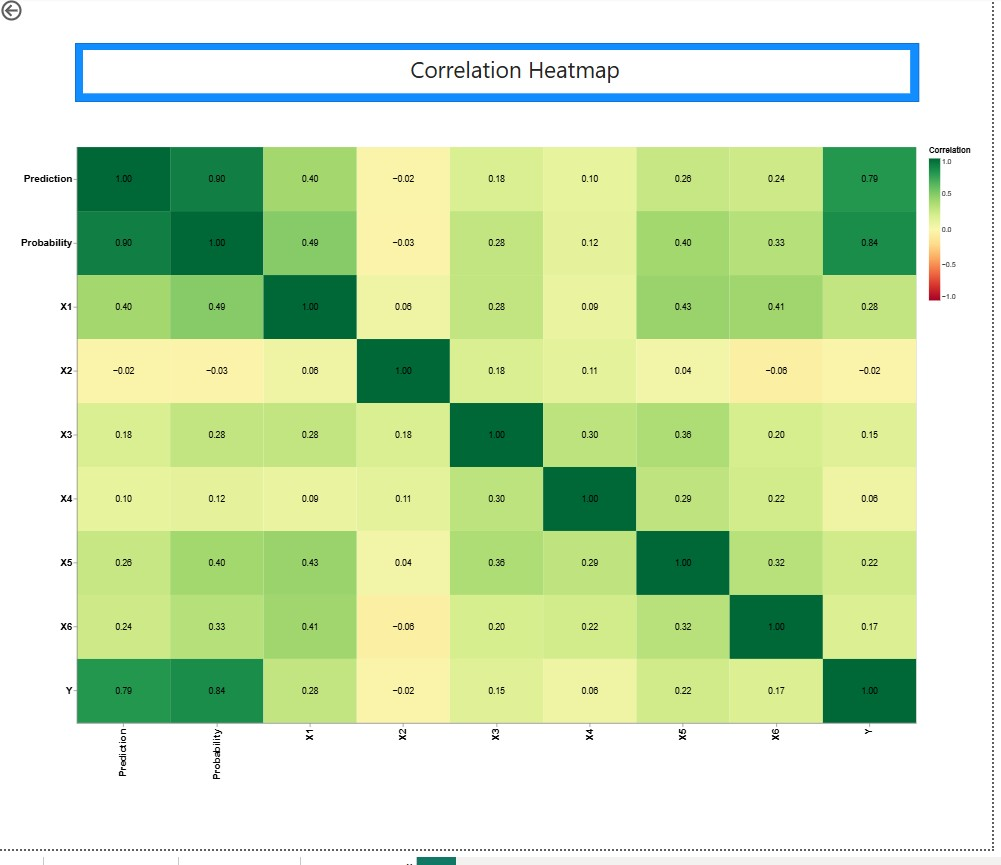

Layout of this report page (visuals, bound fields, positions):
{"tool":"powerbi","page":{"name":"4.Correlations","canvas":[1400,1200],"ordinal":3},"visuals":[{"type":"shape","box":[108.5,64.8,1188.7,83.1],"z":0,"group":"g1"},{"type":"deneb7E15AEF80B9E4D4F8E12924291ECE89A","fields":{"dataset":["Variables.Variable","VariablesCols.Variable","Measures_all.CorrCoef"]},"box":[21.1,201.4,1363.4,915.5],"z":0},{"type":"group","id":"g1","title":"Head","box":[108.5,64.8,1188.7,83.1],"z":1},{"type":"actionButton","box":[0,0,40.8,38],"z":2},{"type":"textbox","box":[120.3,74.9,1164.8,60.6],"z":1000,"group":"g1"}]}

Visuals, with their boxes on the page's 1400x1200 design canvas (x1, y1, x2, y2). These are canvas units, not pixel positions in the 1001x865 screenshot, which may show the page scaled, cropped or inside an application window:
shape: BBox(108, 65, 1297, 148)
deneb7E15AEF80B9E4D4F8E12924291ECE89A - Variables.Variable x VariablesCols.Variable: BBox(21, 201, 1384, 1117)
"Head" group: BBox(108, 65, 1297, 148)
actionButton: BBox(0, 0, 41, 38)
textbox: BBox(120, 75, 1285, 136)
